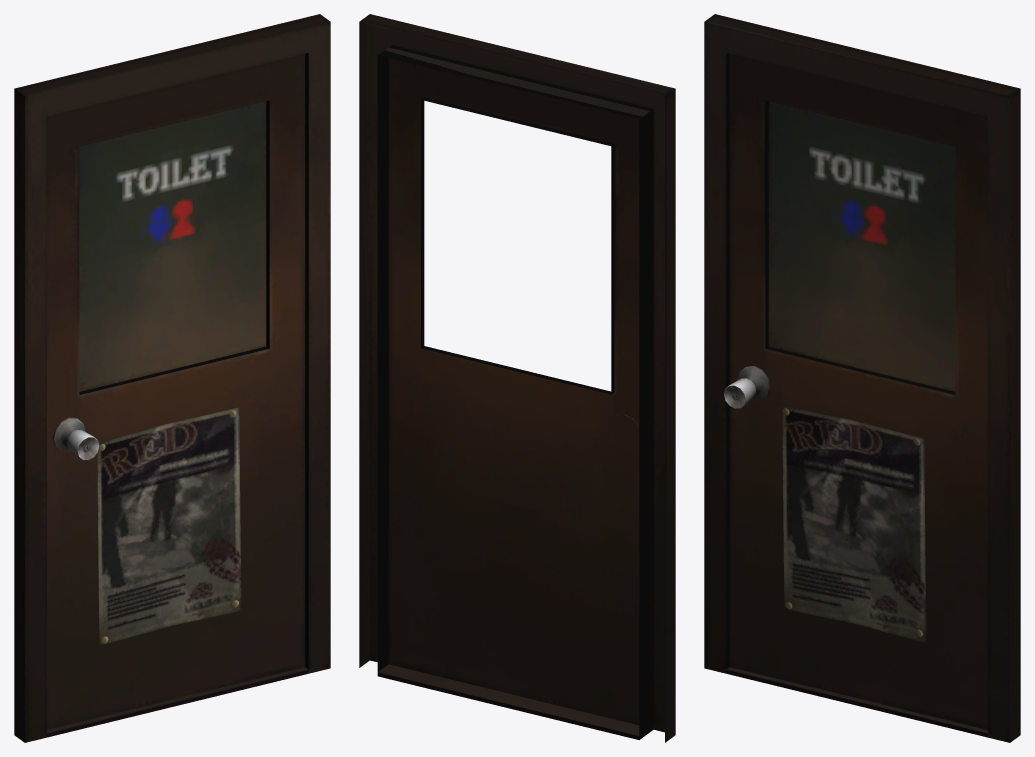
File: Toilet Door.obj
3 views of the same model, side by side, from view 1: azimuth 30°, elevation 25°; view 2: azimuth 150°, elevation 25°; view 3: azimuth 330°, elevation 25° (orthographic).
Parts seen in each view (by area): view 1: 繧ｪ繝悶ず繧ｧ繧ｯ繝・7_meshId0.001, door_wc_meshId3.001, 繧ｪ繝悶ず繧ｧ繧ｯ繝・7.001_meshId1.001, 繧ｪ繝悶ず繧ｧ繧ｯ繝・7.002_meshId2.001; view 2: 繧ｪ繝悶ず繧ｧ繧ｯ繝・7_meshId0.001, door_wc_meshId3.001; view 3: 繧ｪ繝悶ず繧ｧ繧ｯ繝・7_meshId0.001, door_wc_meshId3.001, 繧ｪ繝悶ず繧ｧ繧ｯ繝・7.001_meshId1.001, 繧ｪ繝悶ず繧ｧ繧ｯ繝・7.002_meshId2.001.
Boxes of the visible parts, x1,y1,x2,y2 form: 繧ｪ繝悶ず繧ｧ繧ｯ繝・7_meshId0.001: (47, 54, 305, 729); door_wc_meshId3.001: (14, 14, 330, 742); 繧ｪ繝悶ず繧ｧ繧ｯ繝・7.001_meshId1.001: (79, 101, 266, 391); 繧ｪ繝悶ず繧ｧ繧ｯ繝・7.002_meshId2.001: (97, 407, 241, 645); 繧ｪ繝悶ず繧ｧ繧ｯ繝・7_meshId0.001: (385, 47, 649, 725); door_wc_meshId3.001: (359, 14, 675, 742); 繧ｪ繝悶ず繧ｧ繧ｯ繝・7_meshId0.001: (724, 54, 987, 729); door_wc_meshId3.001: (704, 14, 1020, 742); 繧ｪ繝悶ず繧ｧ繧ｯ繝・7.001_meshId1.001: (768, 101, 955, 391); 繧ｪ繝悶ず繧ｧ繧ｯ繝・7.002_meshId2.001: (782, 405, 926, 643).
Bounding box in the file's own units: 103 × 208 × 17.97.
3 materials, 3 textured.
